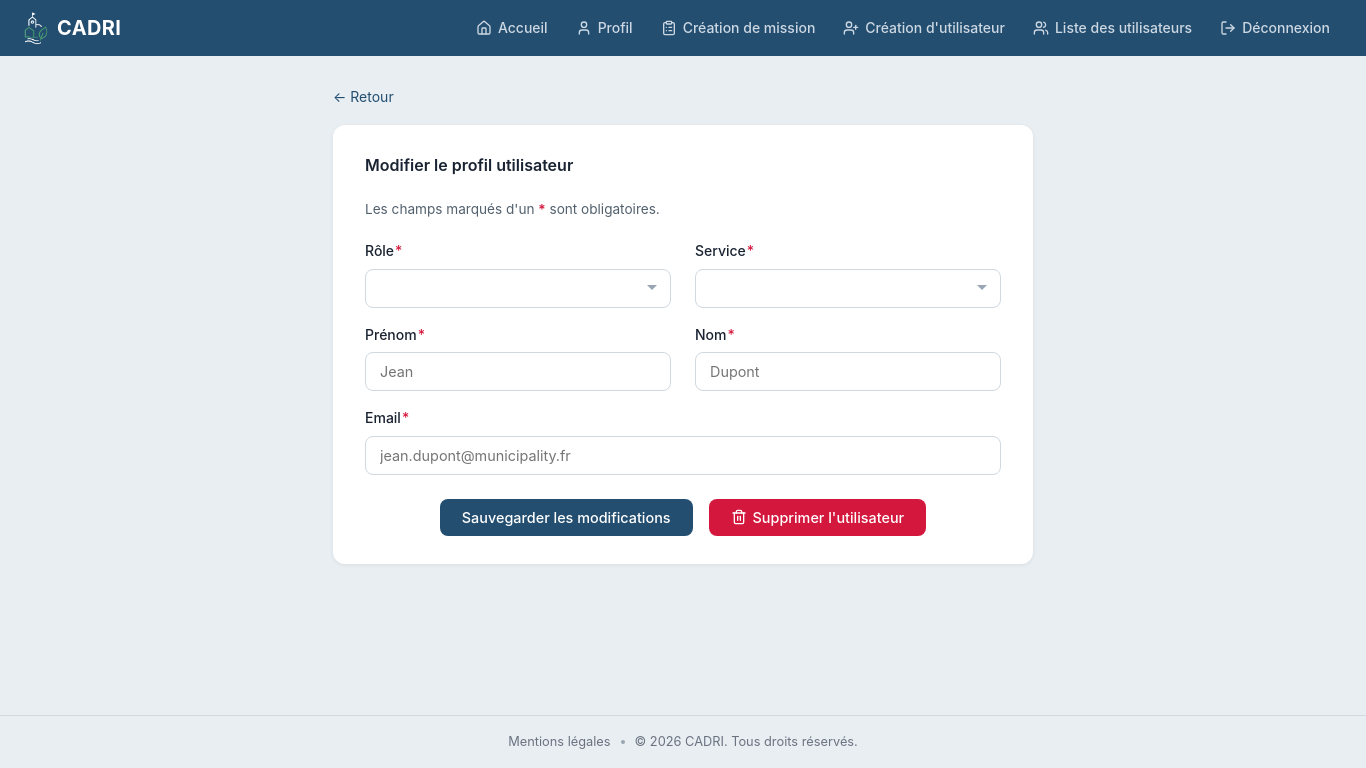
it: UserFormPage — suppression › affiche une alerte en français si l'utilisateur a créé une mission
Check: the field labelled "Nom*" is shown, box [695,352,1001,391]
Click the button "Supprimer l'utilisateur".
click(817, 517)  # box [709,498,926,536]
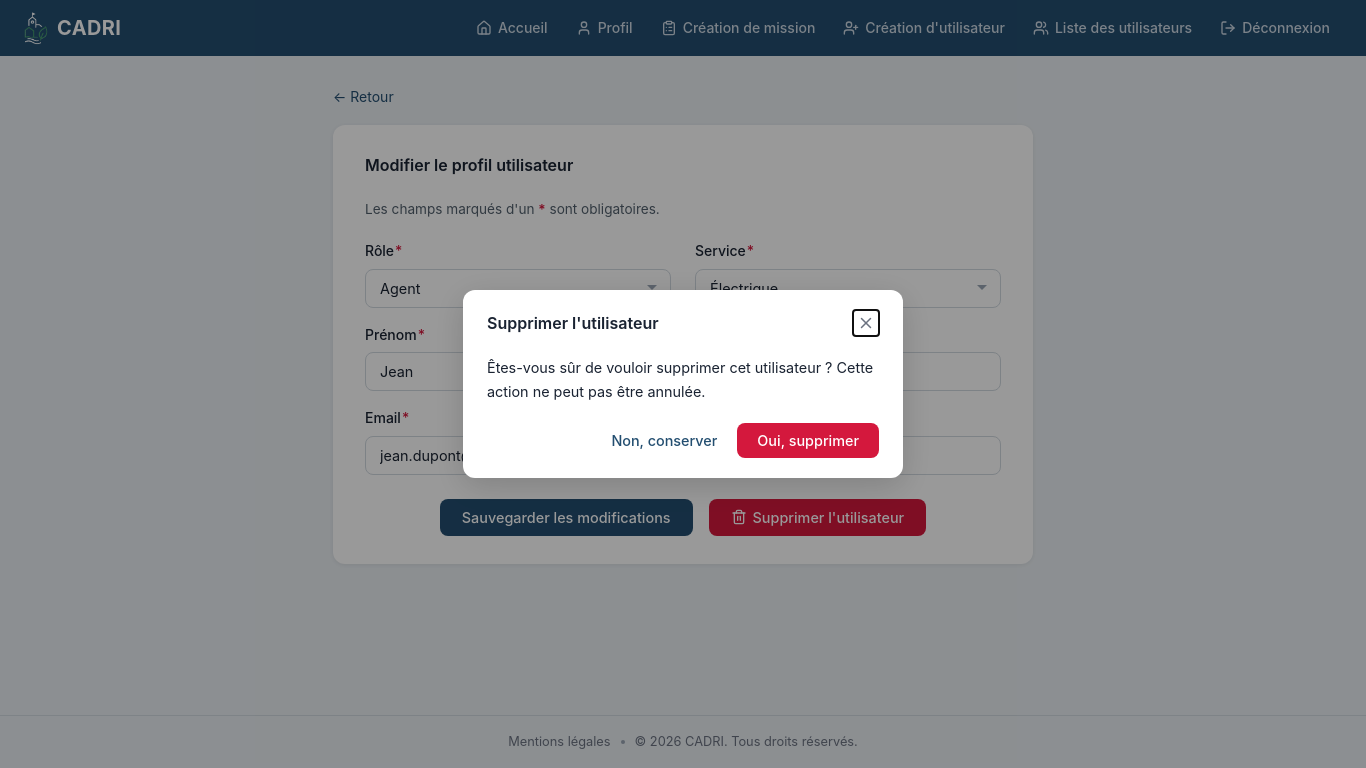
Click the button "Oui, supprimer".
click(808, 440)  # box [737,422,879,458]
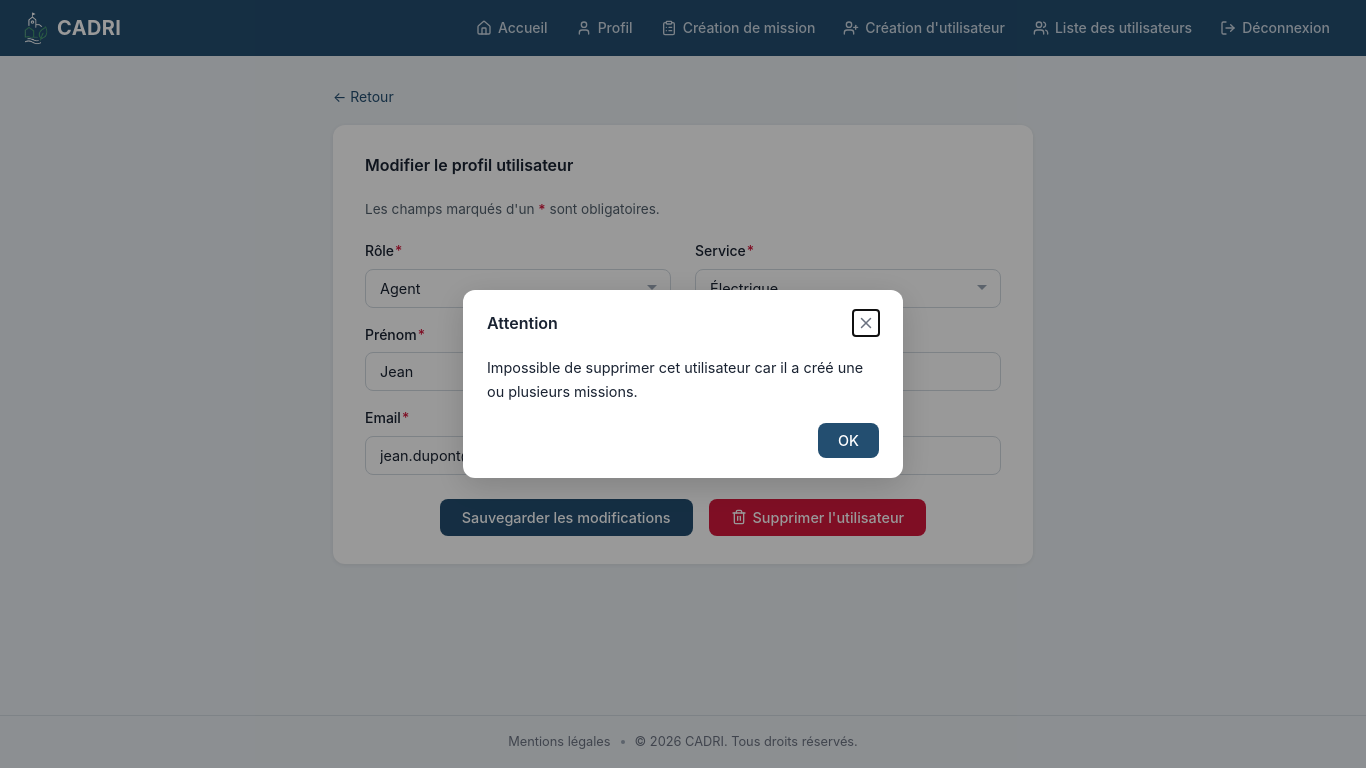
Check: the heading "Modifier le profil utilisateur" is shown, box [365,155,573,175]
Check: the text "Êtes-vous sûr de vouloir supprimer cet utilisateur" is gone
Check: the dialog shows "Impossible de supprimer cet utilisateur car il a créé une ou plusieurs missions.", box [487,360,863,400]
Click the button "OK".
click(849, 440)  # box [818,422,879,458]
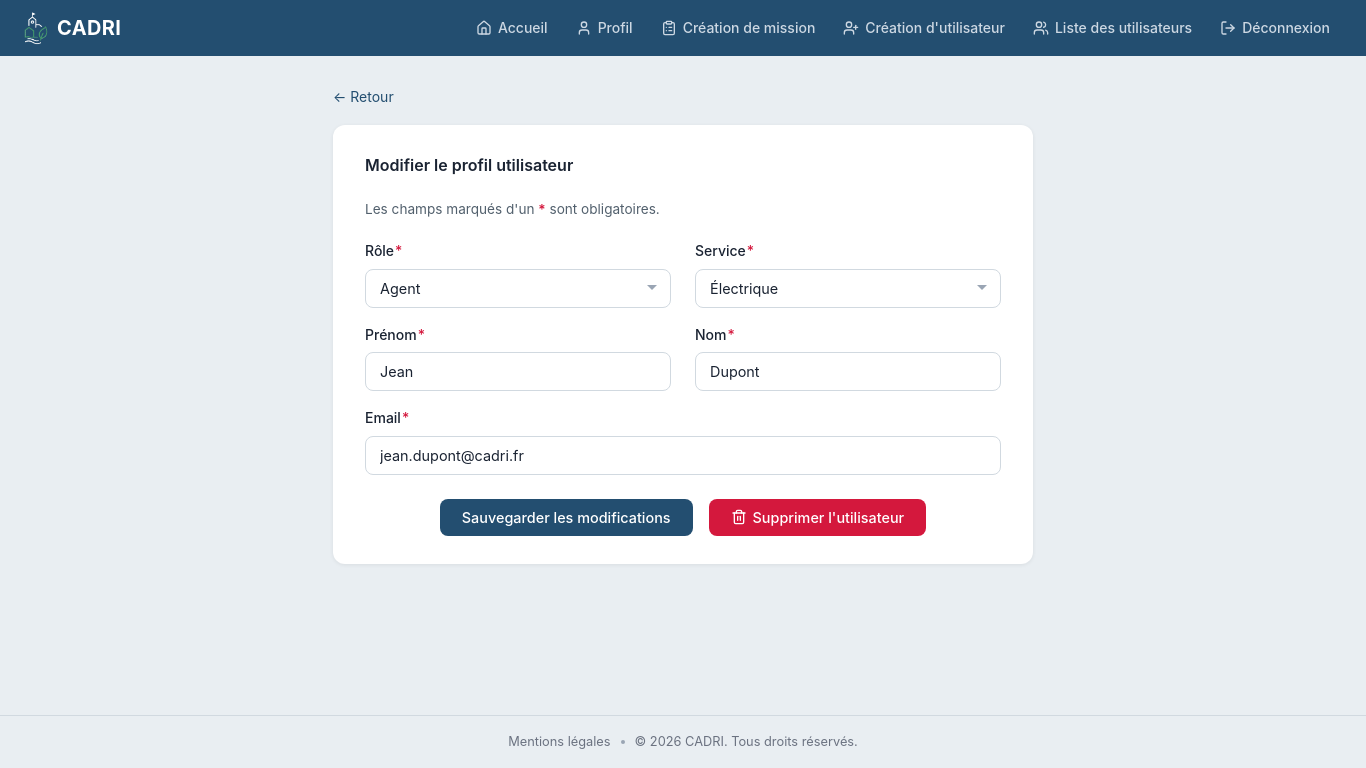
Check: the dialog is gone
